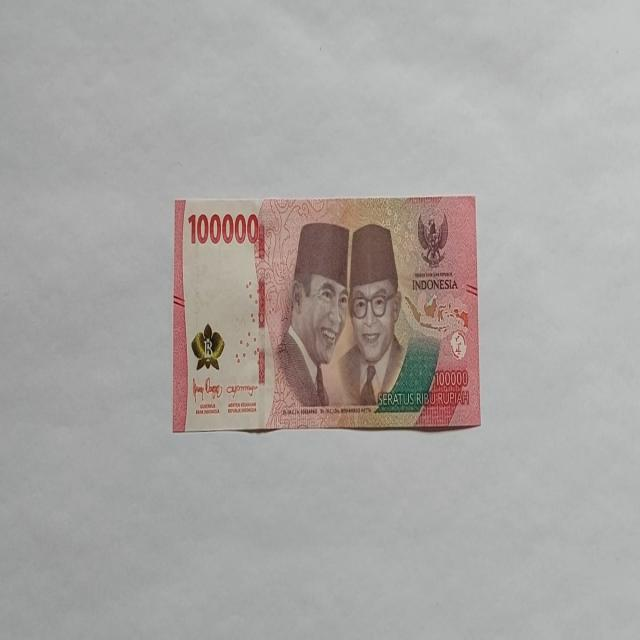seratus ribu rupiah: (172, 194, 480, 433)
